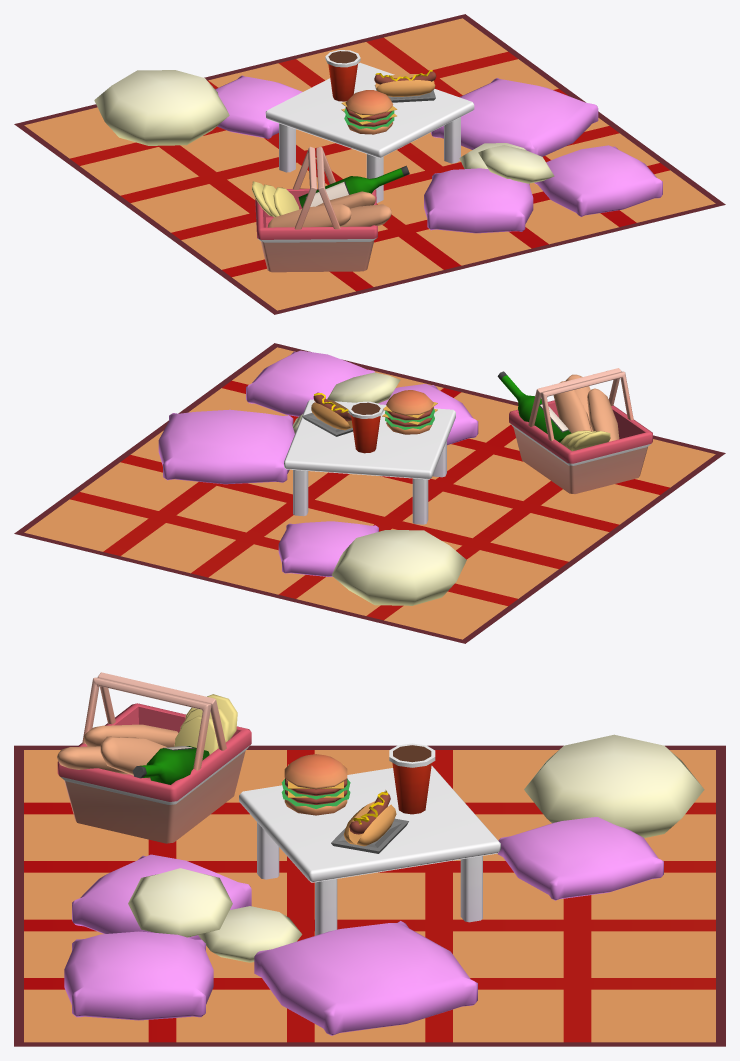
File: Map02_Decor_Picnicset.fbx
The picture shows the model from 3 angles, top to bottom: view 1: azimuth 30°, elevation 25°; view 2: azimuth 150°, elevation 25°; view 3: azimuth 270°, elevation 25°; orthographic projection. The views are drawn at different scales.
Visible parts, largest first — view 1: Map02_Decor_Picnicset; view 2: Map02_Decor_Picnicset; view 3: Map02_Decor_Picnicset.
Part boxes in pixels (x1,y1,x2,y2): Map02_Decor_Picnicset: (14,14,725,314); Map02_Decor_Picnicset: (14,343,725,643); Map02_Decor_Picnicset: (14,672,725,1046).
Size of the model in its own units: 895 by 197 by 895.
